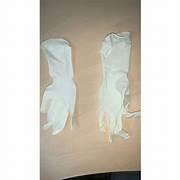Glove: (99, 32, 138, 141), (41, 39, 75, 134)
